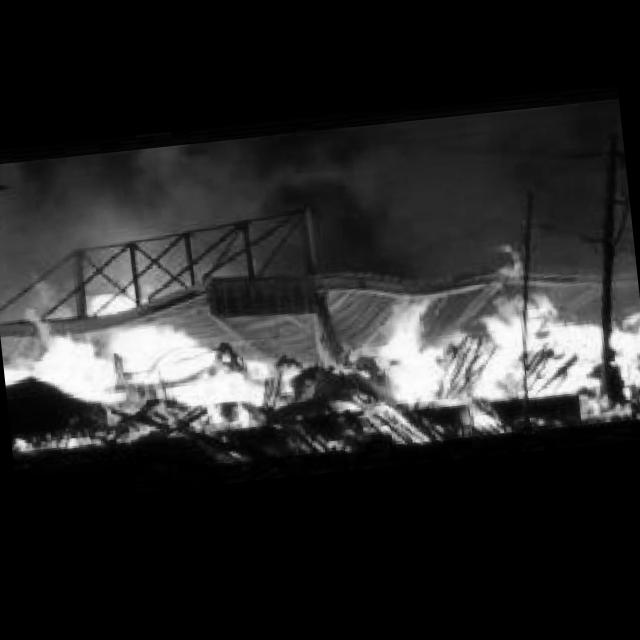fire: (363, 276, 640, 438), (0, 308, 302, 429), (89, 287, 138, 316)
